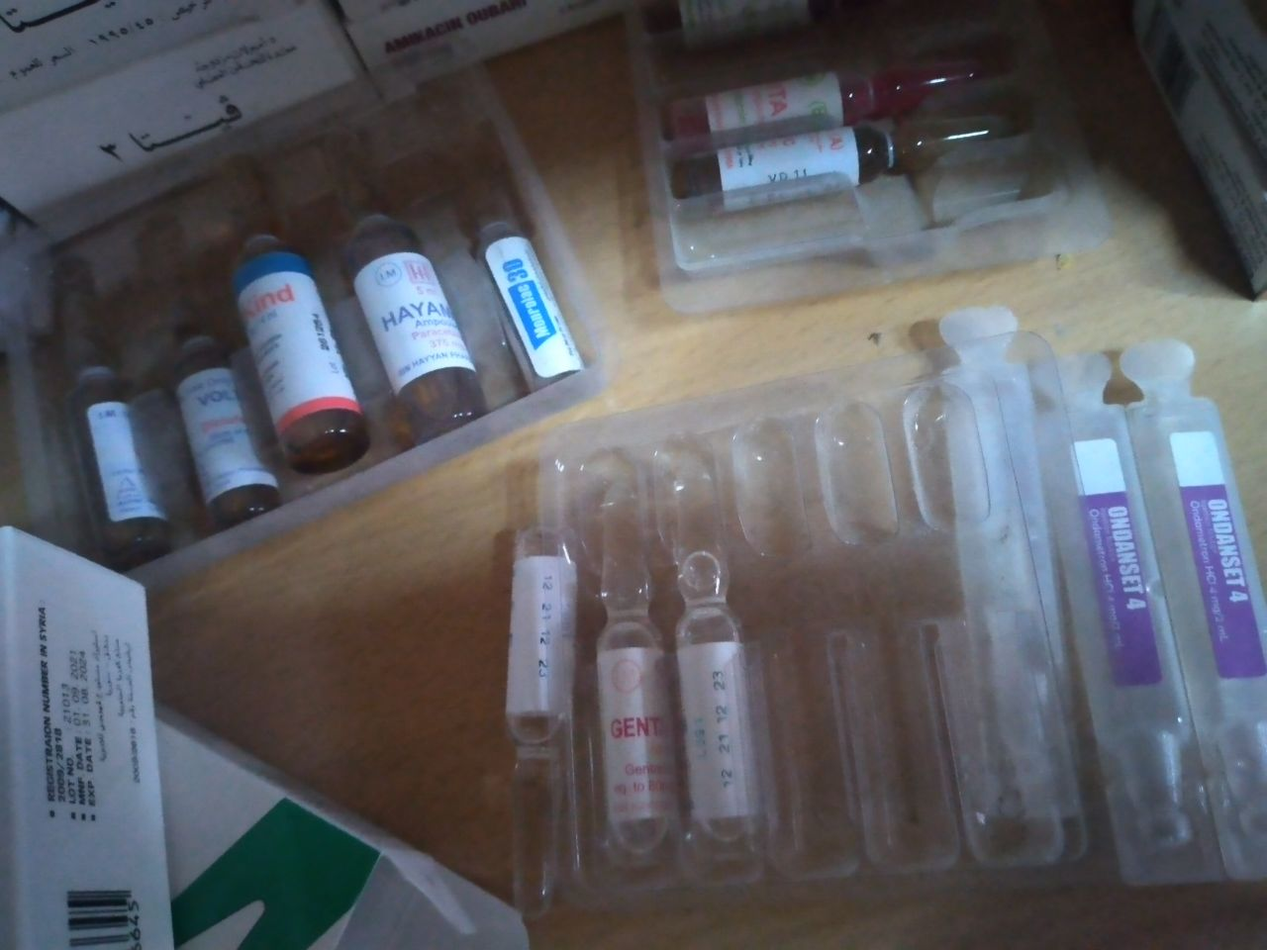Medicine: (1027, 341, 1210, 918), (1138, 334, 1267, 873), (302, 124, 497, 433), (25, 238, 181, 571), (663, 448, 782, 878), (141, 233, 304, 522), (653, 35, 1049, 151), (661, 96, 1074, 205), (423, 106, 579, 393), (579, 455, 681, 876), (228, 186, 369, 463), (500, 520, 572, 928)
